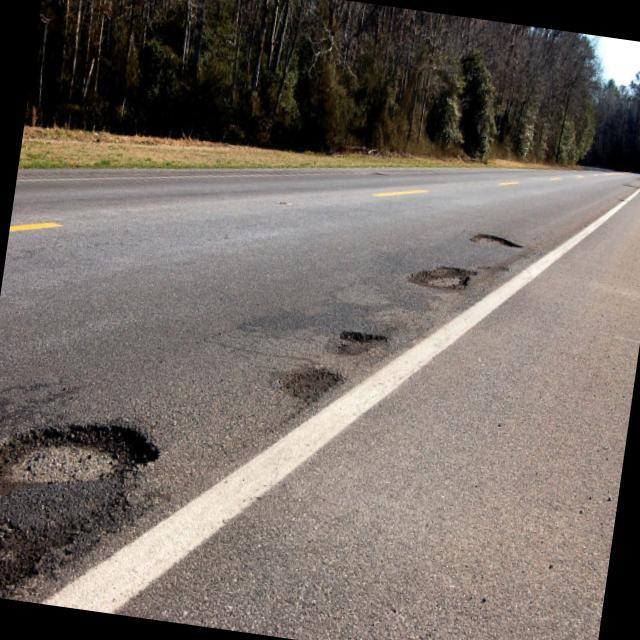Pothole: (0, 401, 157, 509), (282, 354, 338, 414), (408, 256, 480, 302), (337, 321, 395, 366), (471, 222, 522, 260)
